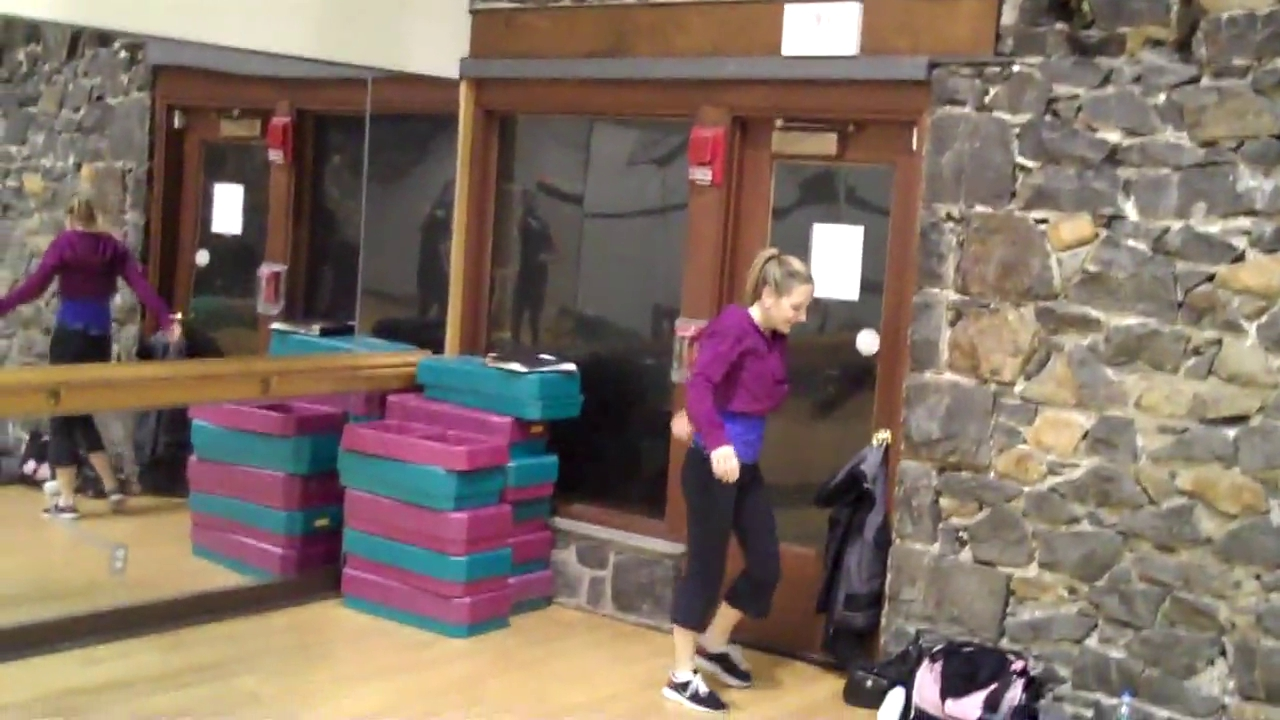person: (663, 247, 814, 713), (1, 196, 183, 521)
